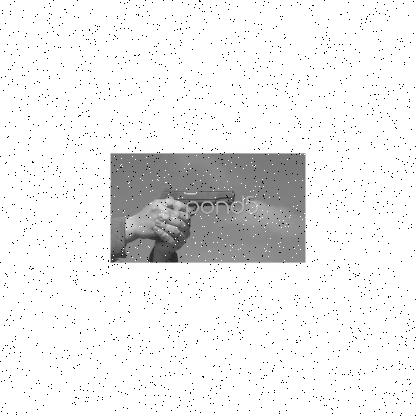gun: (152, 187, 235, 240)
